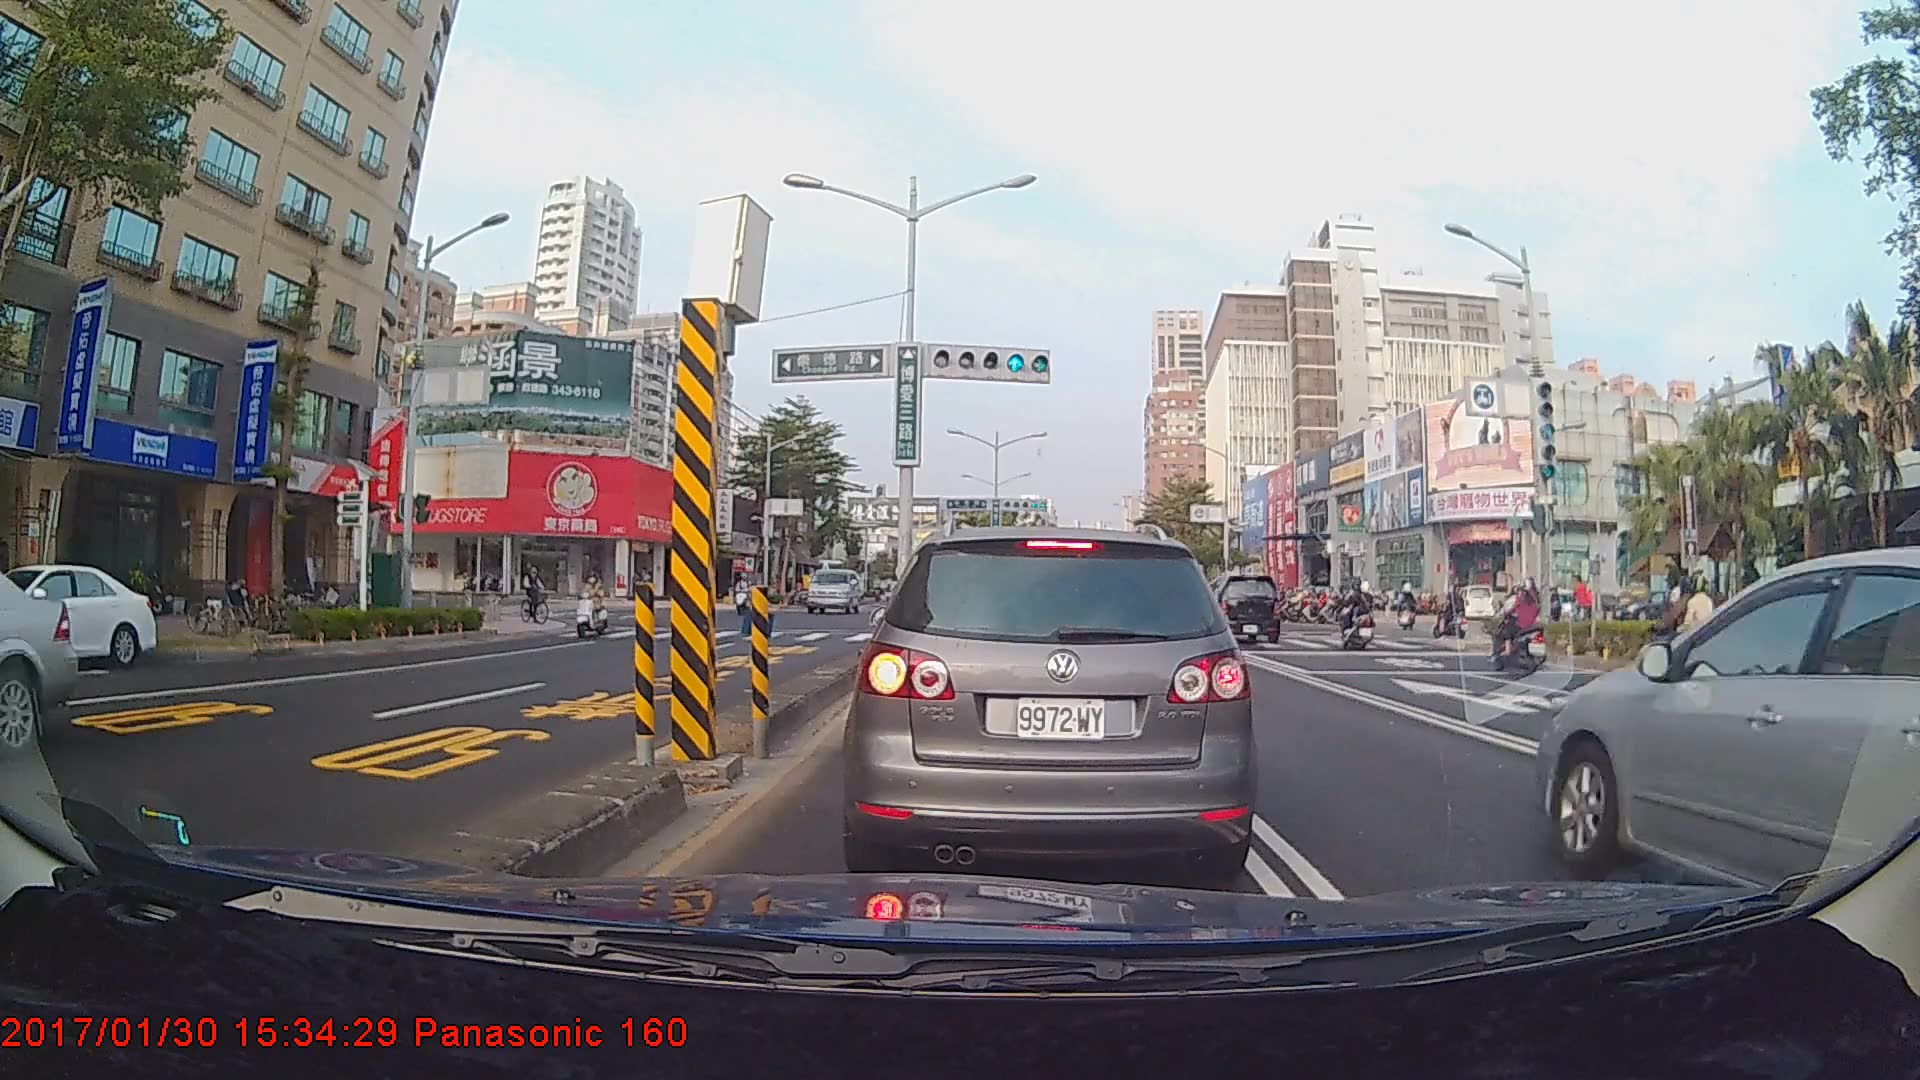rider: (1657, 568, 1721, 710), (1490, 576, 1561, 677), (1333, 582, 1387, 648), (573, 572, 620, 638), (518, 559, 561, 629), (1436, 582, 1473, 646)
vehicle: (852, 522, 1250, 876), (1533, 542, 1920, 878), (0, 561, 157, 671), (1194, 571, 1280, 644), (806, 567, 862, 615)
